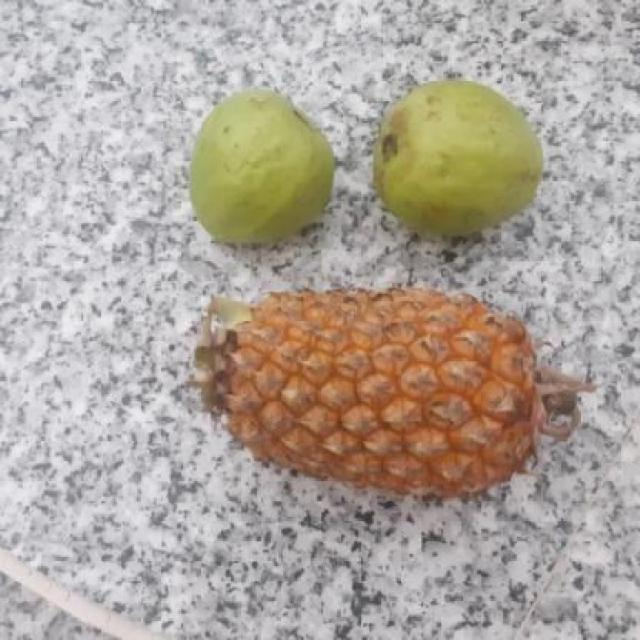guava: (366, 81, 543, 230), (184, 92, 338, 240)
pineapple: (193, 286, 564, 502)
